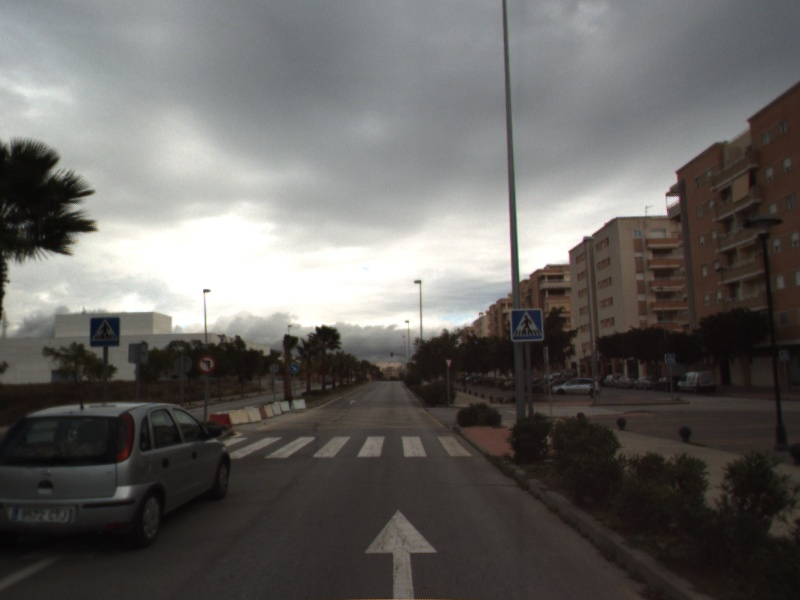STRAIGHT: (362, 507, 441, 600)
